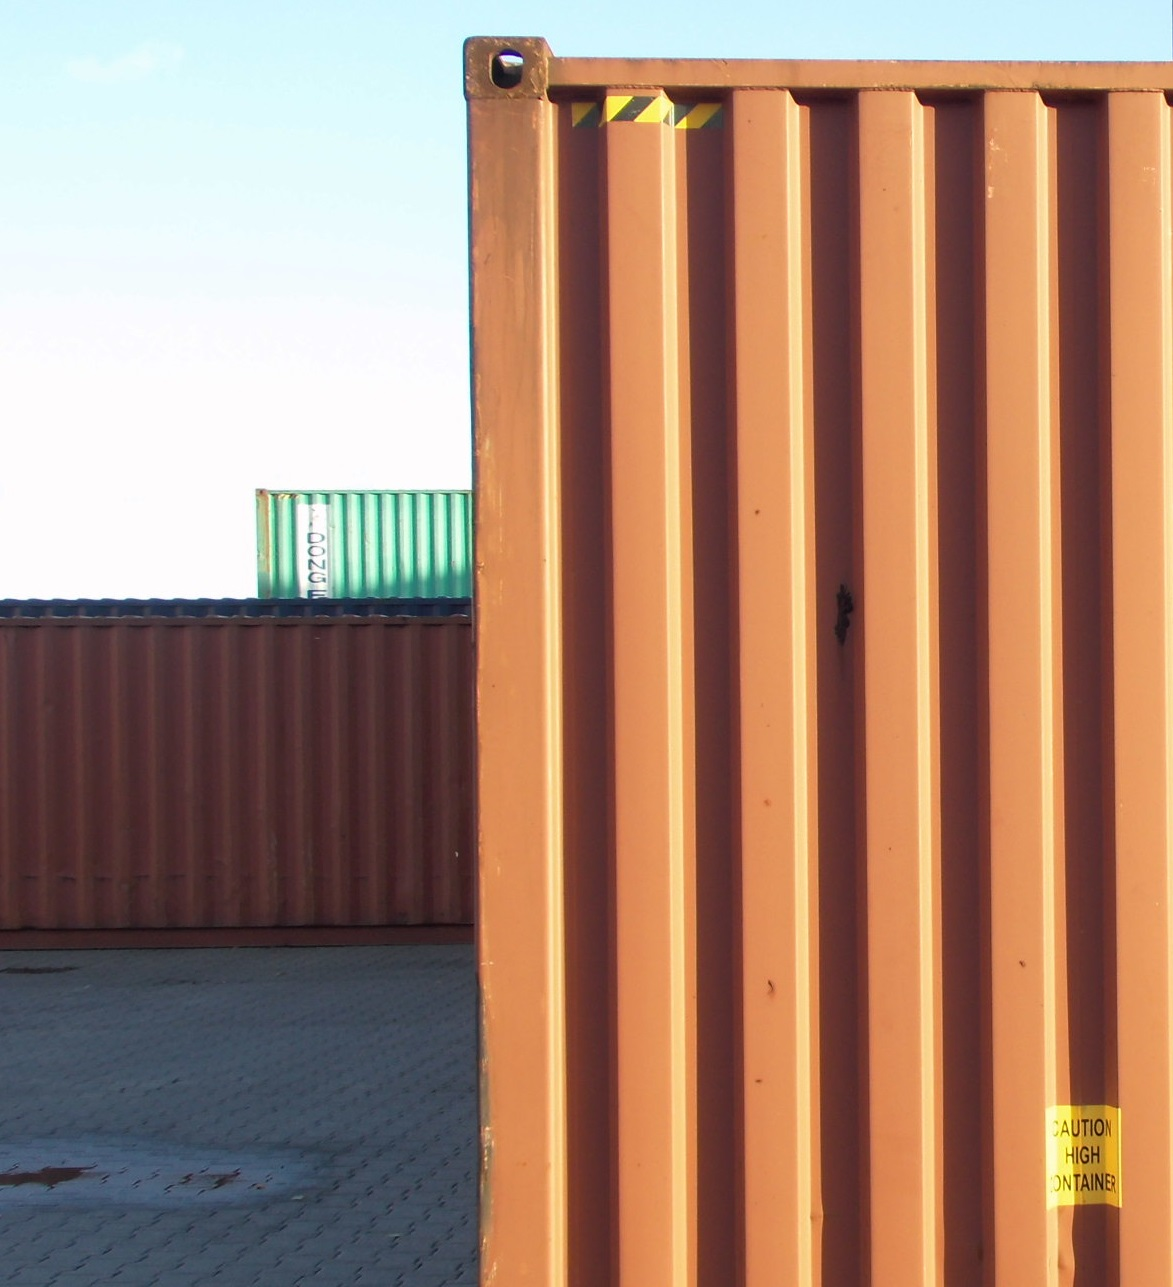container_no_door: (465, 34, 1166, 1287), (193, 601, 462, 939), (255, 485, 465, 596)
